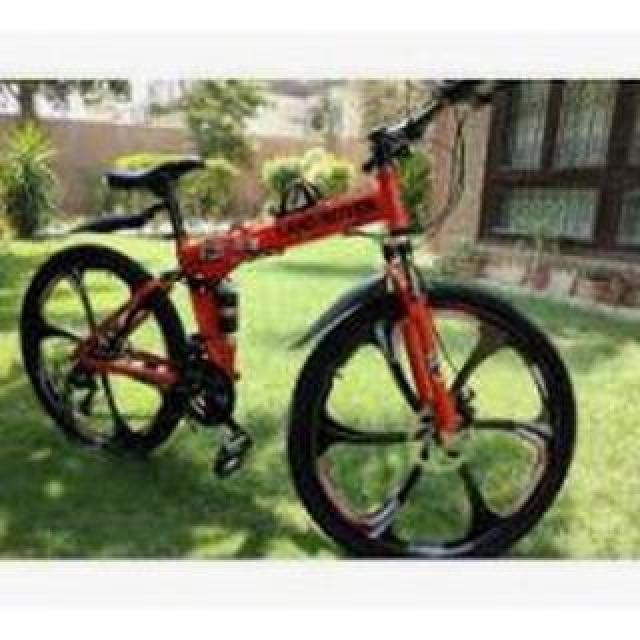Person: (22, 88, 582, 564)
